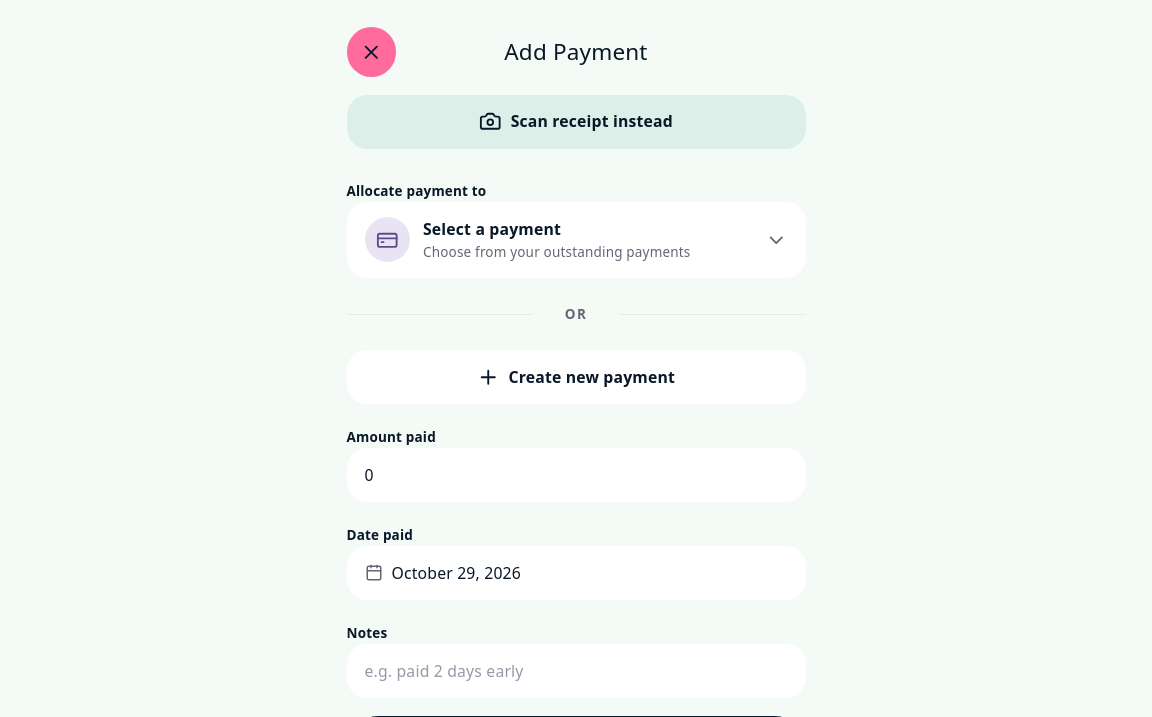
PaymentForm (ObligationForm) Component › loads the available payment occurrences
Click the button with aria-label "Allocate payment to": point(387, 240) [346,202,806,278]
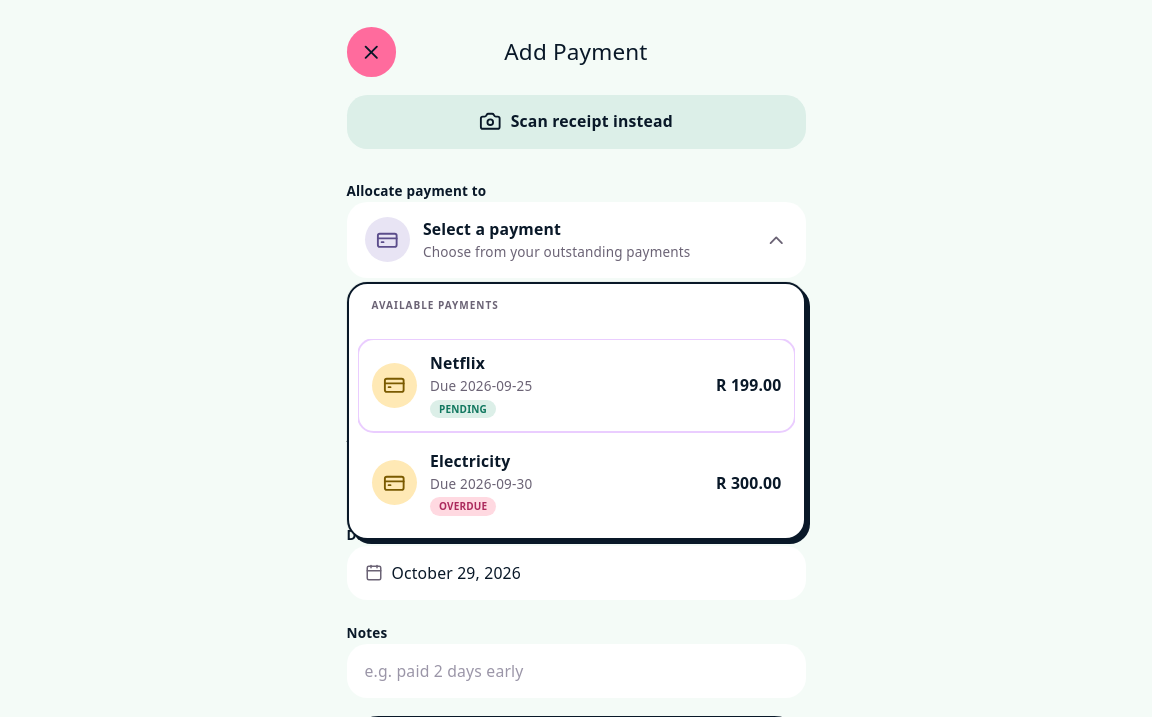
Result: the button "Netflix Due 2026-09-25 PENDING R 199.00" is shown at [358,339,795,432]
Result: the button "Electricity Due 2026-09-30 OVERDUE R 300.00" is shown at [358,436,795,529]
